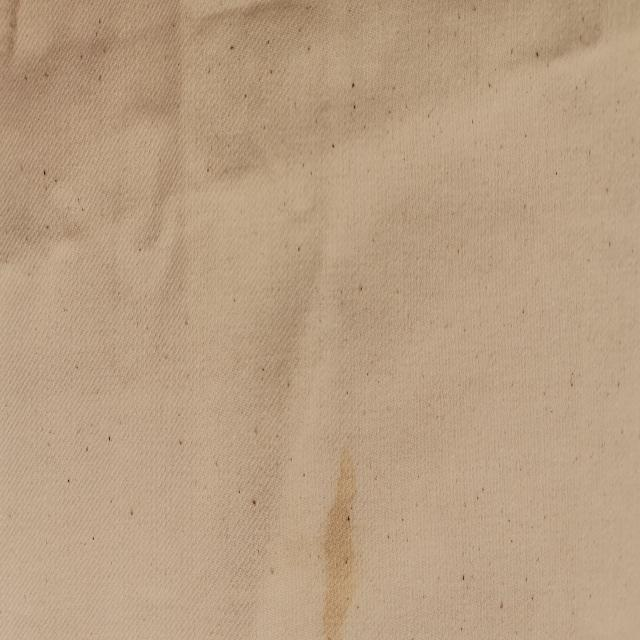taaaches: (306, 417, 387, 640)
